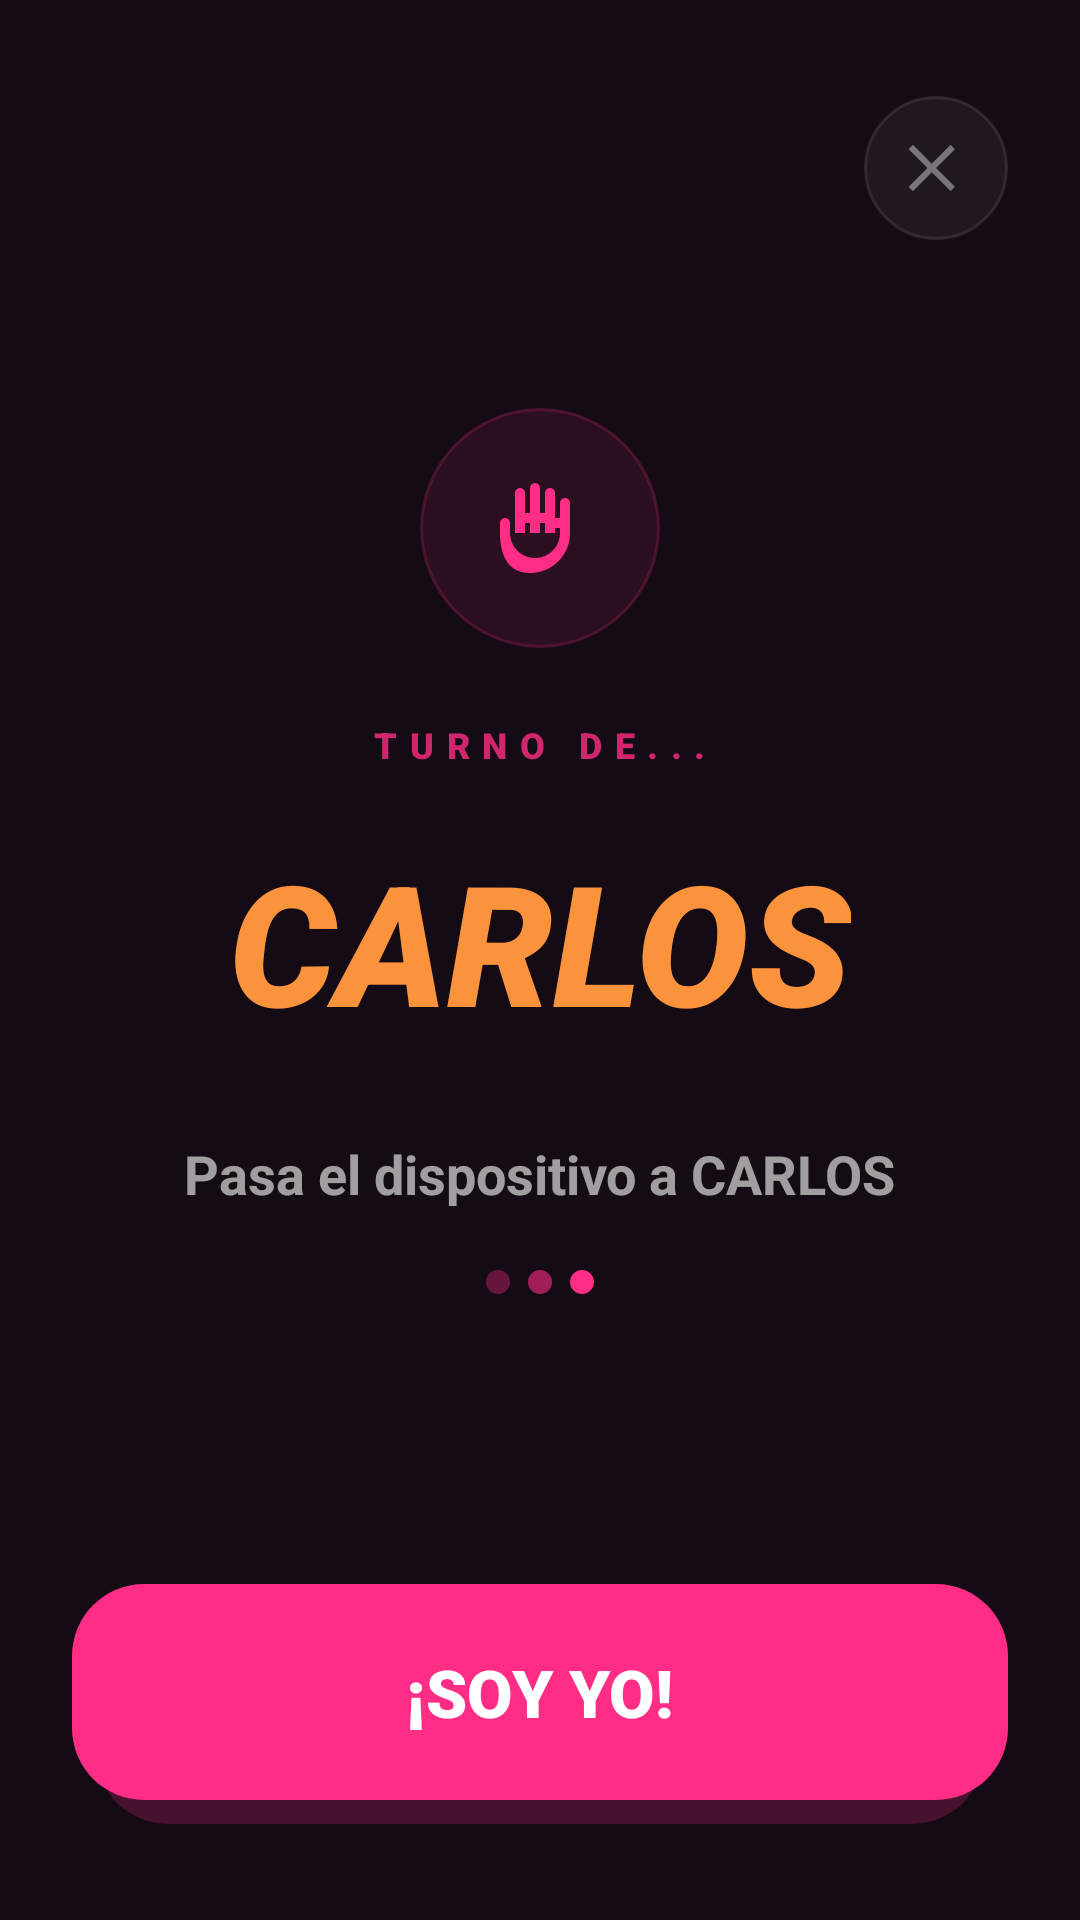

Icons on this 1080*1920 Android screen, each with the point to tap as (x=x, y=y):
Cerrar: (x=932, y=168)
Icono de turno: (x=535, y=528)
